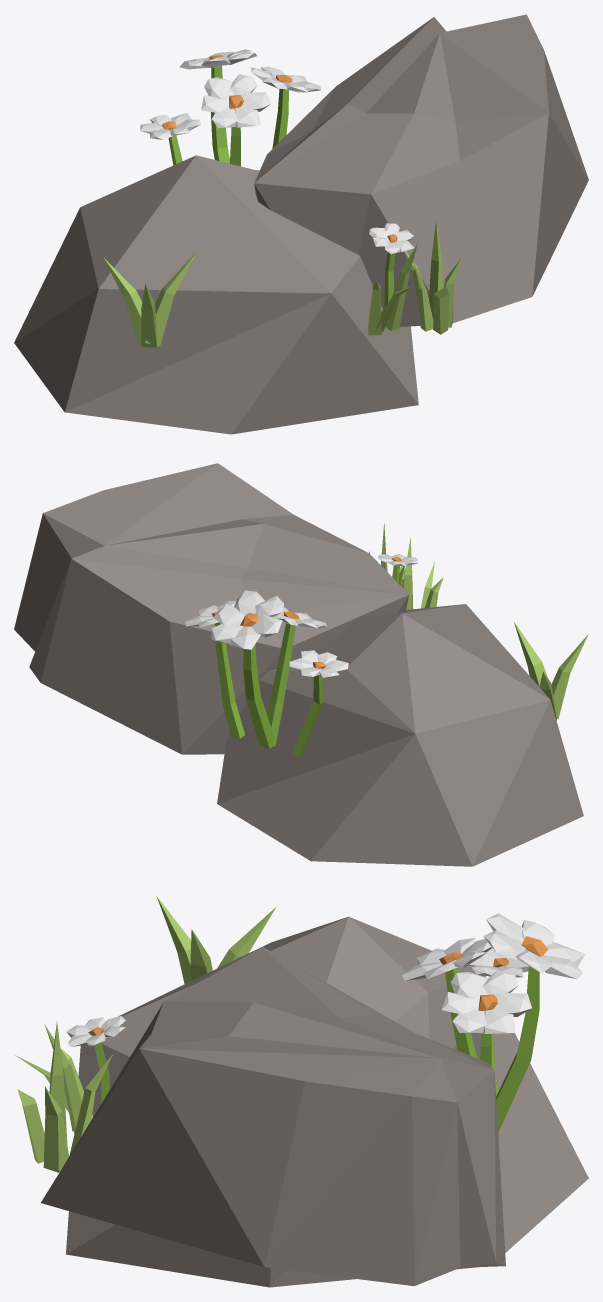
Rendered from rock-03.glb.
3 renders of one model, top to bottom at view 1: azimuth 30°, elevation 25°; view 2: azimuth 150°, elevation 25°; view 3: azimuth 270°, elevation 25°, orthographic. The views are drawn at different scales.
Parts seen in each view (by area): view 1: Rock10; view 2: Rock10; view 3: Rock10.
Part boxes in pixels (x1,y1,x2,y2): Rock10: (14, 14, 588, 434); Rock10: (14, 463, 588, 866); Rock10: (15, 896, 588, 1287).
Bounding box in the file's own units: 3.16 × 1.31 × 2.18.
